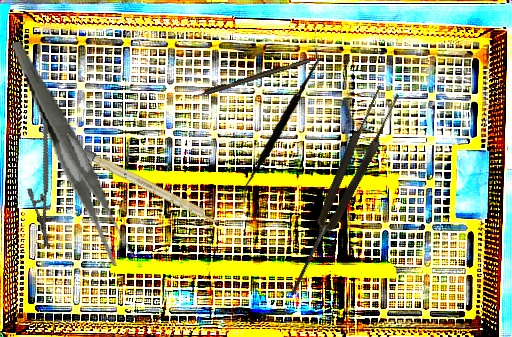Dressing Forceps: (10, 30, 137, 276)
Hook Surgical: (187, 57, 311, 101)
Needle Holder: (5, 119, 88, 250)
Scalpel Handle: (80, 147, 221, 227)
Spatula Surgical: (231, 48, 329, 202)
Tissue Forceps: (277, 84, 404, 300)
